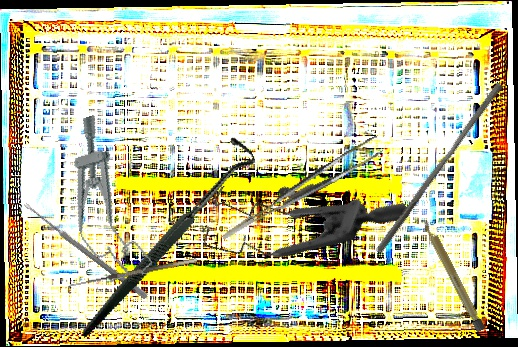Hook Surgical: (36, 131, 293, 339), (66, 258, 199, 294)
Pusher: (375, 78, 504, 259)
Scalpel Handle: (421, 219, 487, 333)
Speculum: (182, 106, 412, 323), (48, 111, 155, 289)
Surgical Spoon: (22, 201, 149, 300)
Tissue Forceps: (209, 135, 391, 240)
